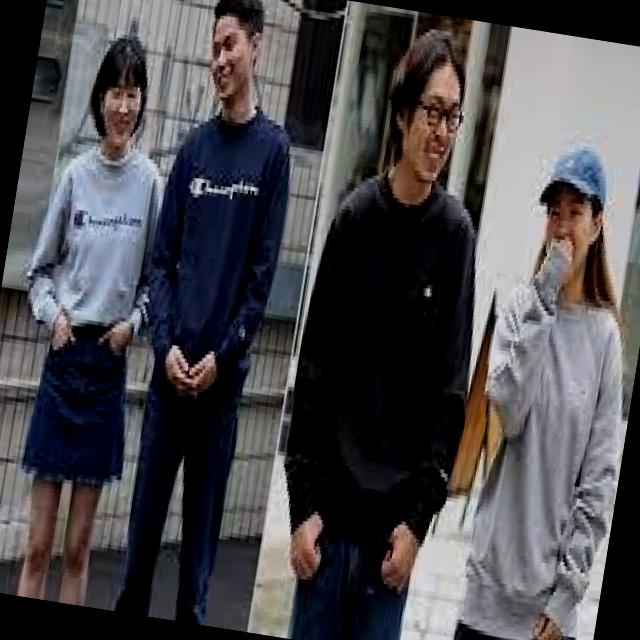pants: (111, 357, 249, 626)
skirt: (16, 309, 157, 505)
sweater: (268, 151, 500, 575), (441, 248, 639, 640), (126, 78, 302, 390), (17, 116, 182, 356)
